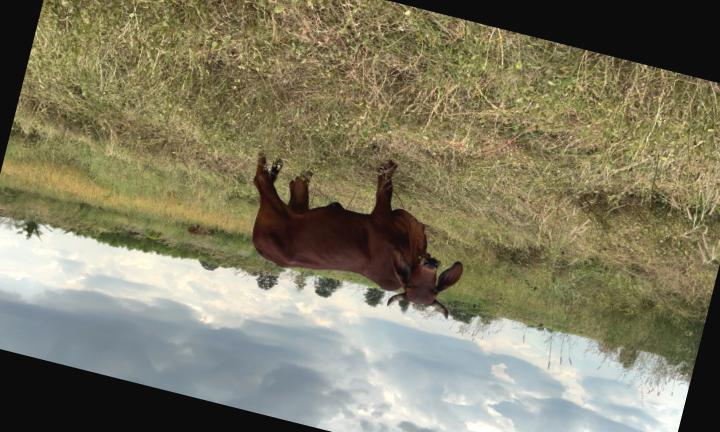Brahman: (252, 154, 462, 318)
